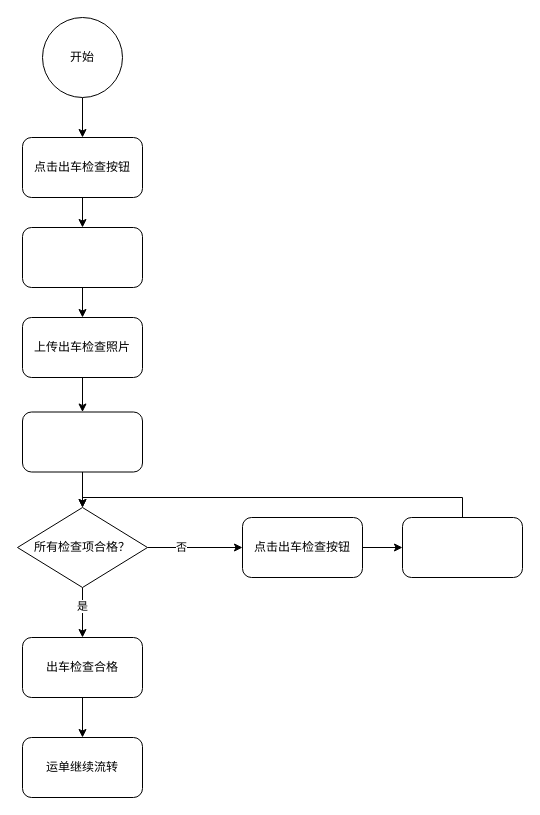
Image size: 540x815. Some labels were removed from this diagram. Here are the shapes that lost their labels. From the top down, the centre of each, then its label:
At (82,257): "填写出车检查项".
At (82,441): "点击提交".
At (462,547): "修改出车检查项".
